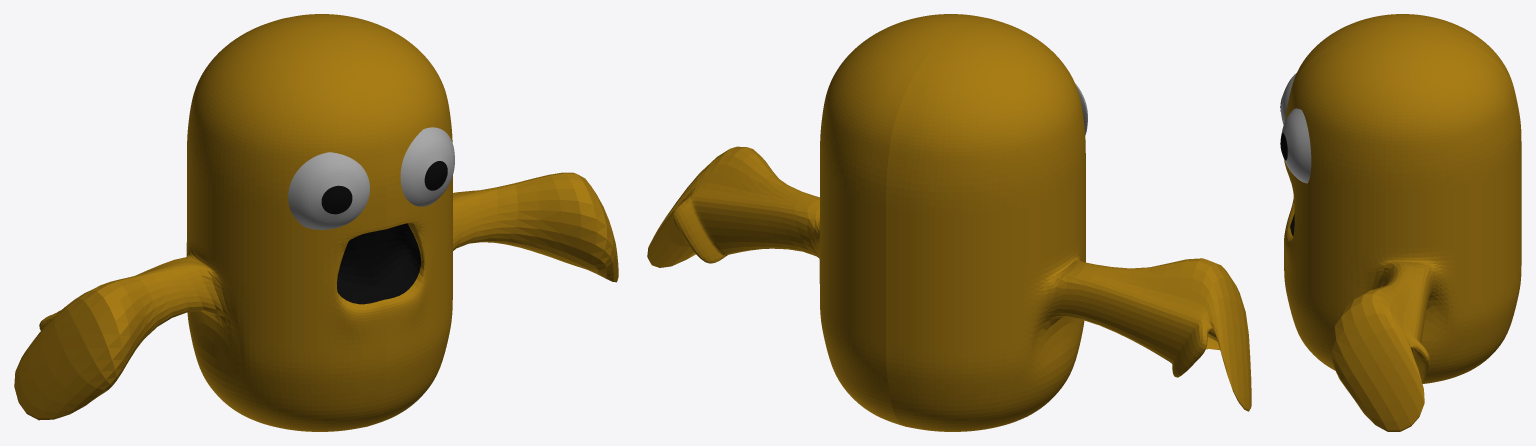
File: dave-the-minion-flapping.obj
The picture shows the model from 3 angles, left to right: view 1: azimuth 30°, elevation 25°; view 2: azimuth 150°, elevation 25°; view 3: azimuth 270°, elevation 25°; orthographic projection. The views are drawn at different scales.
Parts seen in each view (by area): view 1: Body_Sphere, eyes_Sphere.005; view 2: Body_Sphere; view 3: Body_Sphere, eyes_Sphere.005.
Boxes of the visible parts, bbox=[...] form: Body_Sphere: bbox=[14, 14, 618, 431]; eyes_Sphere.005: bbox=[288, 127, 454, 229]; Body_Sphere: bbox=[647, 14, 1251, 431]; Body_Sphere: bbox=[1284, 14, 1521, 431]; eyes_Sphere.005: bbox=[1280, 73, 1311, 183].
Bounding box in the file's own units: 5.1 × 3.11 × 2.02.
